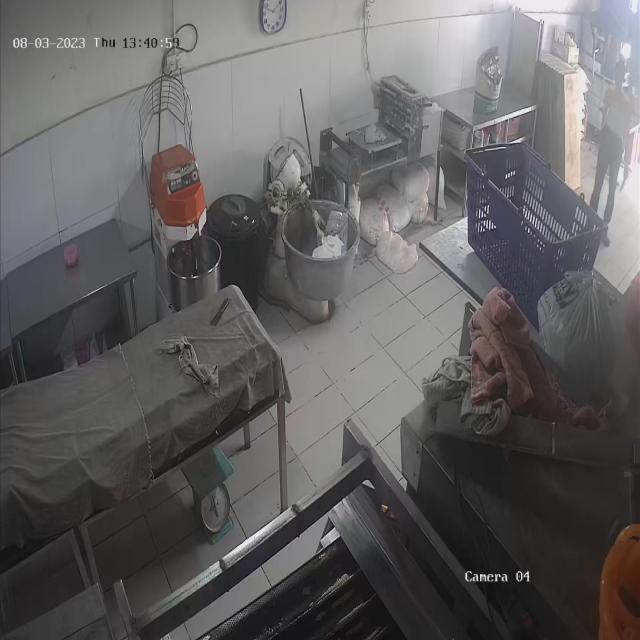Knife: (616, 163, 634, 199)
